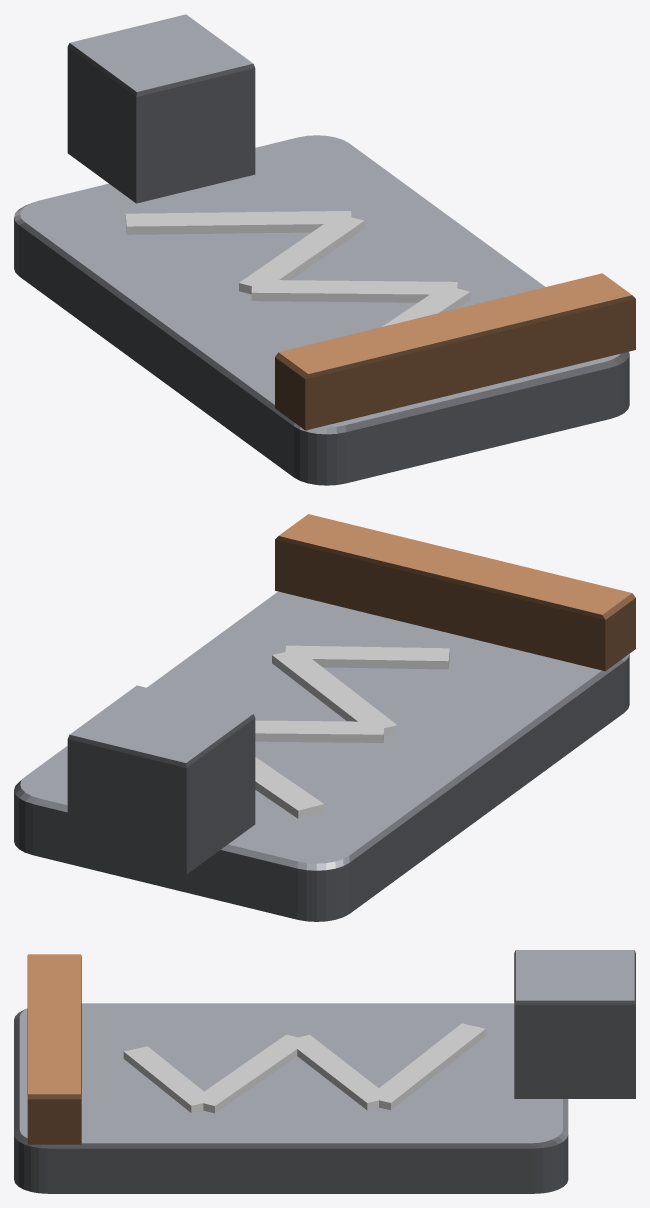
Rendered from pin_power_pickup.glb.
3 renders of one model, top to bottom at view 1: azimuth 30°, elevation 25°; view 2: azimuth 150°, elevation 25°; view 3: azimuth 270°, elevation 25°, orthographic. The views are drawn at different scales.
Parts seen in each view (by area): view 1: Korpus, Licht; view 2: Korpus, Licht; view 3: Korpus, Licht.
Part boxes in pixels (x1,y1,x2,y2): Korpus: (14, 14, 635, 485); Licht: (125, 211, 470, 326); Korpus: (14, 514, 635, 921); Licht: (255, 645, 449, 818); Korpus: (14, 950, 635, 1193); Licht: (123, 1023, 485, 1113).
Bounding box in the file's own units: 0.5 × 0.24 × 0.92.
